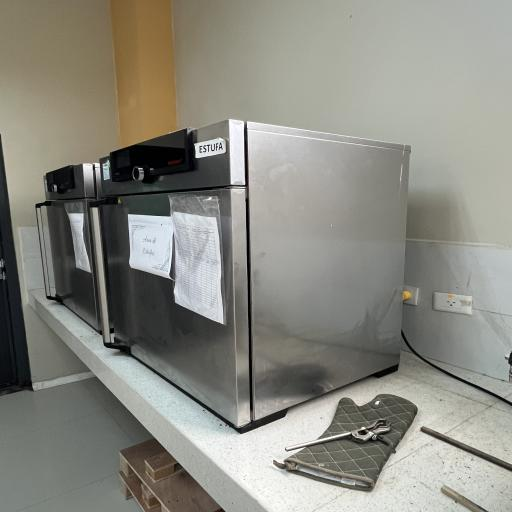Estufa_Memmert: (96, 110, 428, 440)
